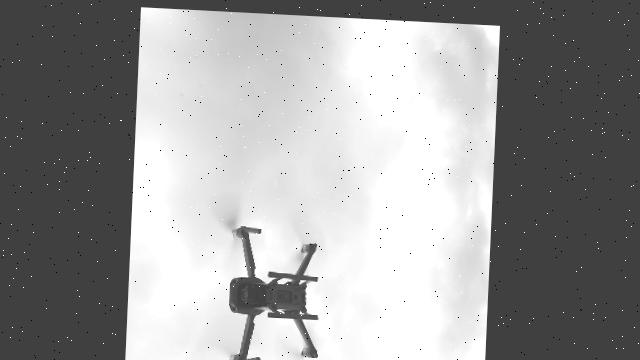drone: (200, 172, 338, 360)
